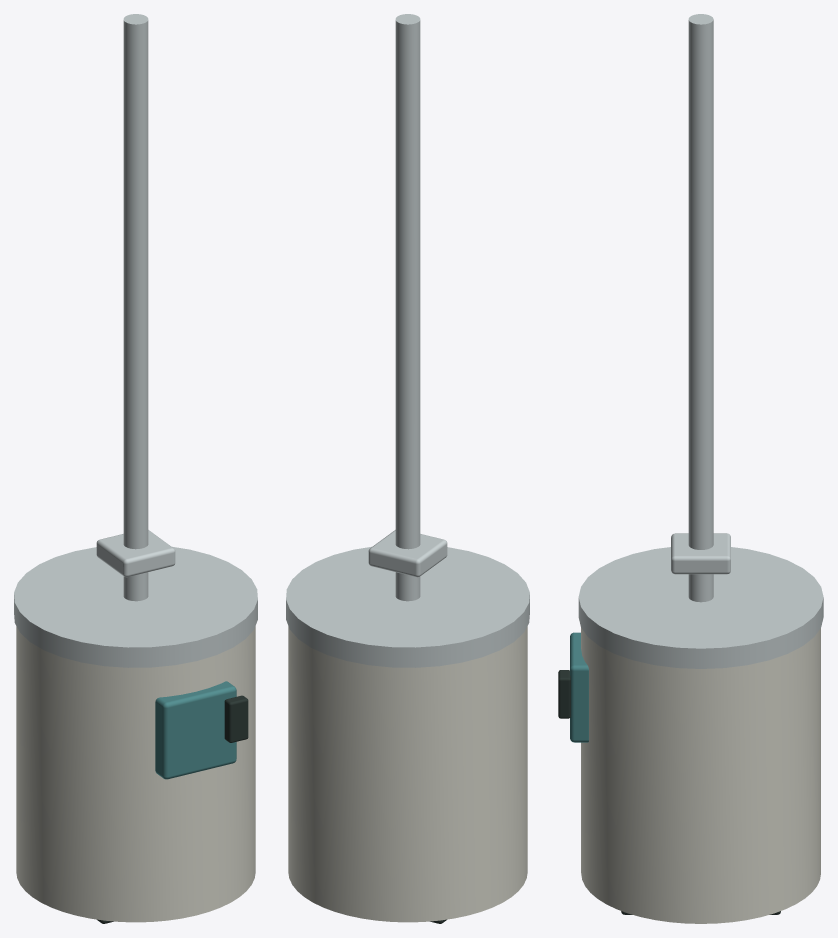
File: mushroom-farm-and-grow-rooms-humidifier-vessel-e3c5b2bc__30832.glb
3 views of the same model, side by side, from view 1: azimuth 30°, elevation 25°; view 2: azimuth 150°, elevation 25°; view 3: azimuth 270°, elevation 25° (orthographic).
Visible parts, largest first — view 1: humidifier-vessel; view 2: humidifier-vessel; view 3: humidifier-vessel.
Part boxes in pixels (x1,y1,x2,y2): humidifier-vessel: (14, 14, 257, 923); humidifier-vessel: (286, 14, 529, 923); humidifier-vessel: (558, 14, 823, 923).
Size of the model in its own units: 0.4901 by 1.9 by 0.5305.
